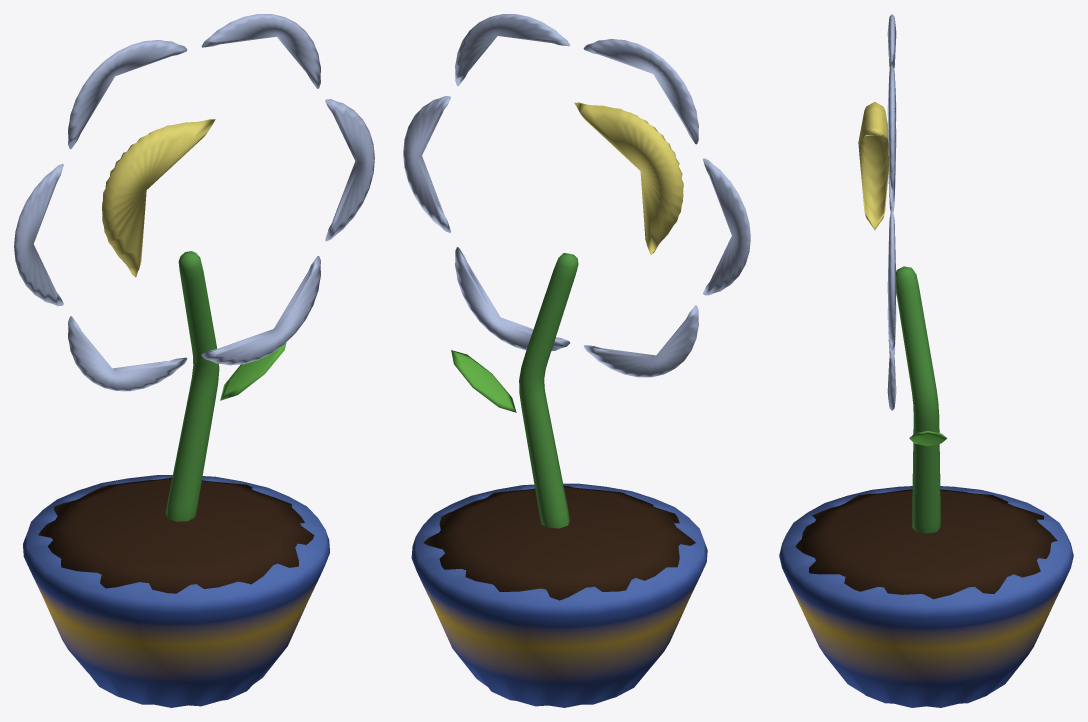
Rendered from ing_petal.glb.
The picture shows the model from 3 angles, left to right: view 1: azimuth 30°, elevation 25°; view 2: azimuth 150°, elevation 25°; view 3: azimuth 270°, elevation 25°; orthographic projection. The views are drawn at different scales.
Visible parts, largest first — view 1: ing_petal, ing_petal_glow; view 2: ing_petal, ing_petal_glow; view 3: ing_petal, ing_petal_glow.
Part boxes in pixels (left/top/right/bottom): ing_petal: left=23, top=251, right=329, bottom=707; ing_petal_glow: left=14, top=14, right=374, bottom=391; ing_petal: left=411, top=253, right=707, bottom=707; ing_petal_glow: left=403, top=14, right=750, bottom=377; ing_petal: left=779, top=266, right=1073, bottom=707; ing_petal_glow: left=858, top=14, right=896, bottom=410.
Size of the model in its own units: 0.3472 by 0.6256 by 0.2567.
